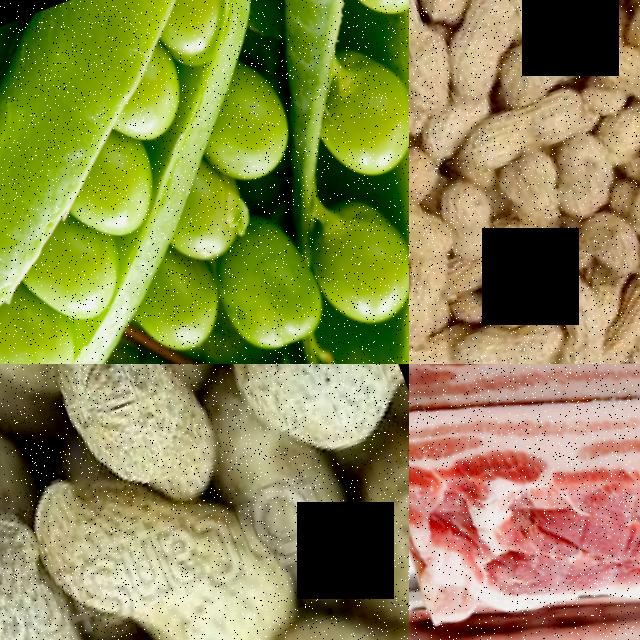peanuts: (204, 364, 409, 487), (27, 364, 212, 494), (0, 506, 126, 640), (450, 86, 599, 183), (427, 0, 535, 108), (521, 273, 618, 364), (423, 176, 502, 273), (486, 157, 567, 248), (434, 306, 560, 364), (409, 0, 461, 129), (581, 37, 640, 127), (515, 0, 622, 42), (409, 182, 449, 287), (617, 226, 640, 316)
peas: (0, 23, 278, 364), (222, 4, 409, 364)
pork belly: (409, 364, 640, 640)
